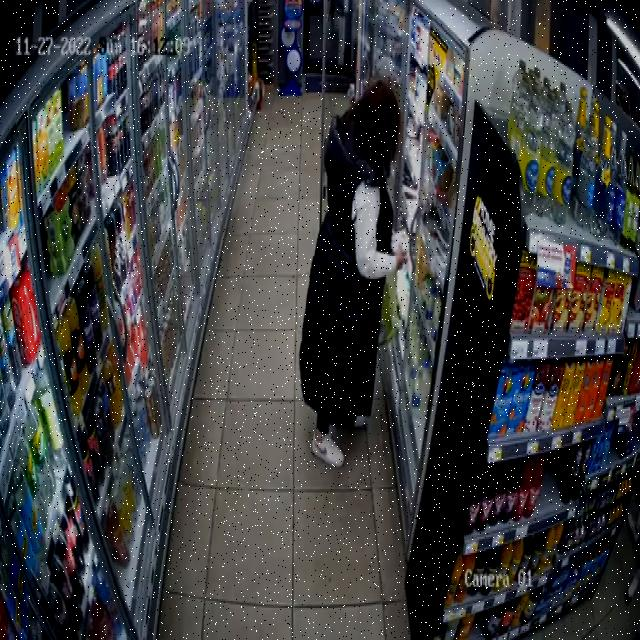article: (392, 231, 409, 251)
hands: (396, 249, 408, 268)
person: (300, 80, 408, 466)
